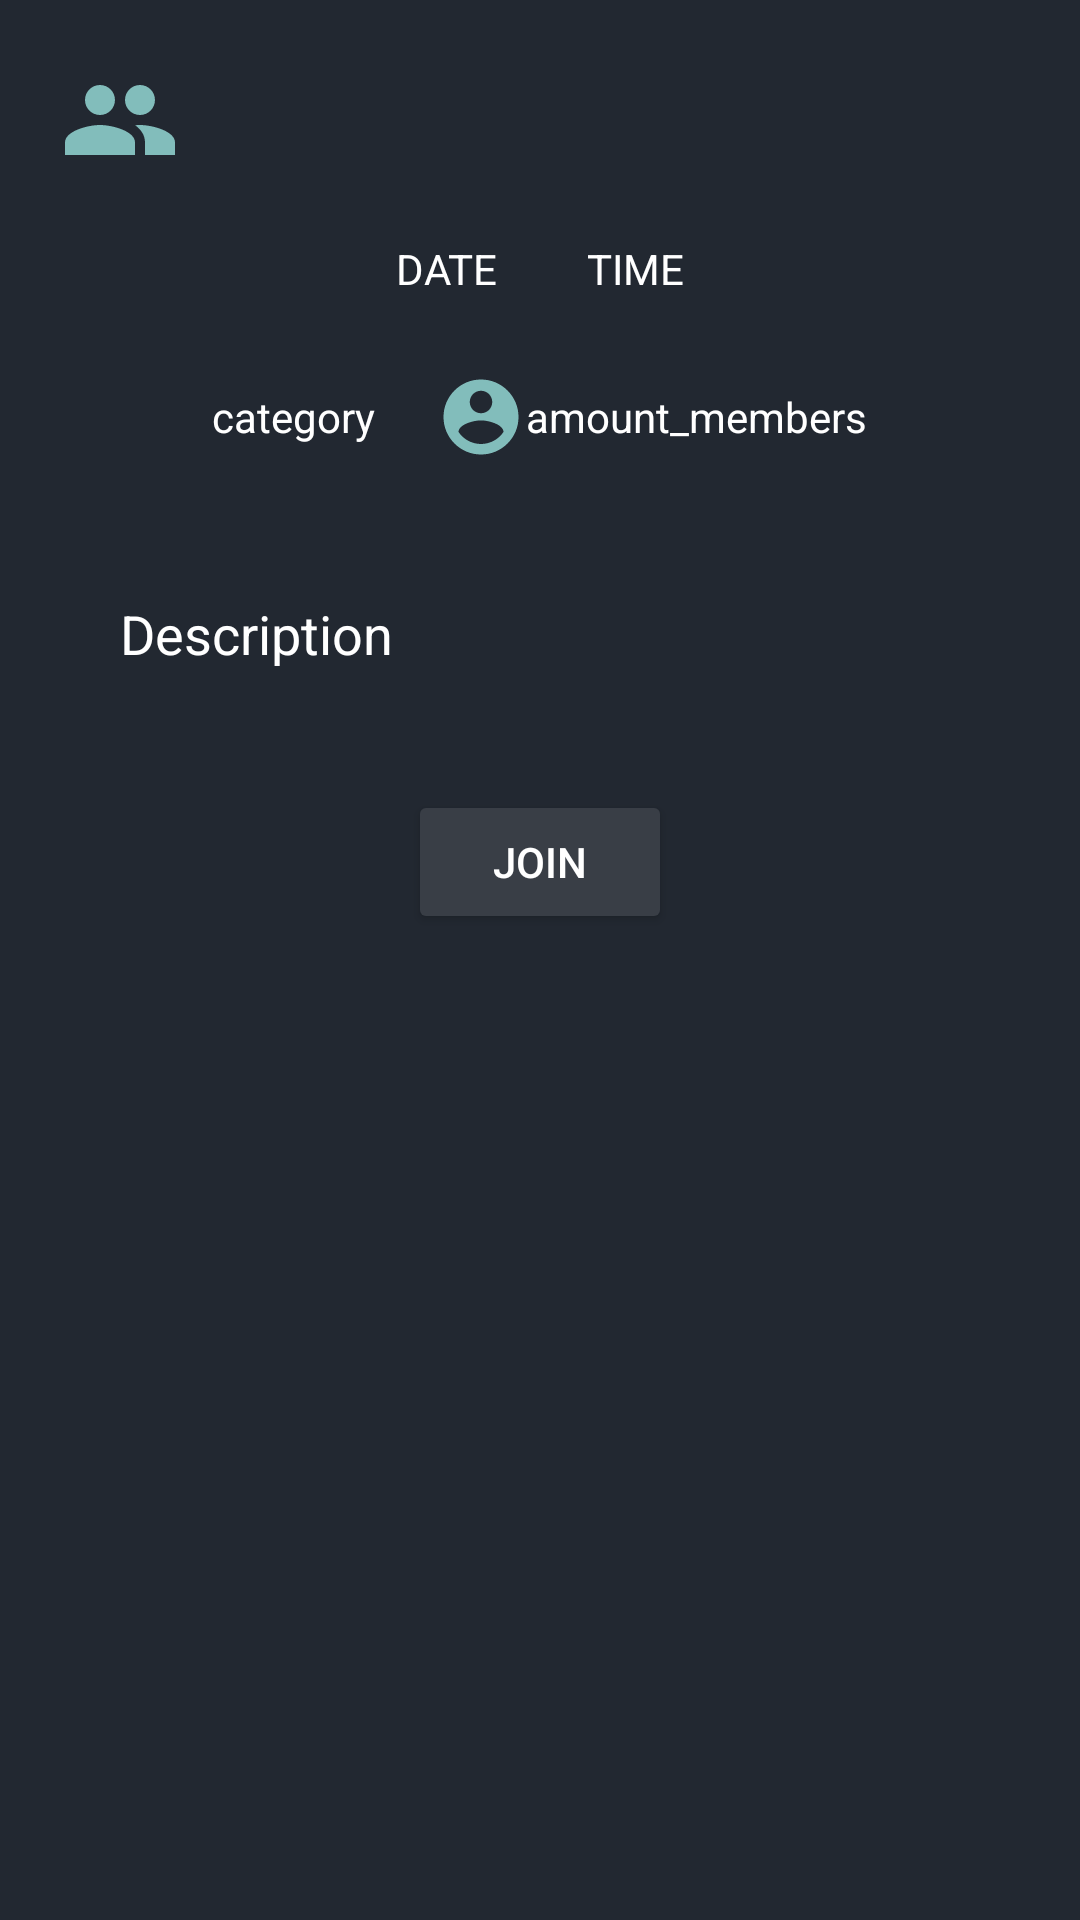

Icons on this 1080 x 1920 Android screen, each with its box as (x1, y1, x2, y2):
account circle: (443, 379, 519, 455)
two people: (65, 85, 175, 155)
